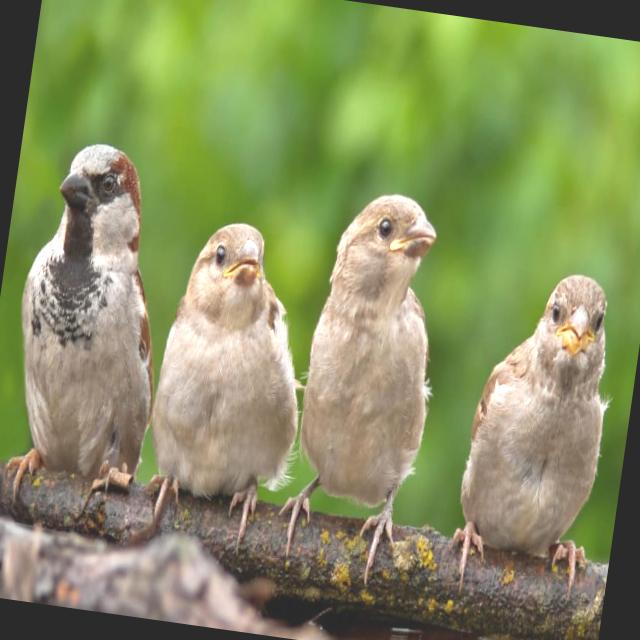bird: (268, 176, 462, 588), (0, 130, 187, 527), (439, 252, 640, 605), (134, 198, 323, 558)
